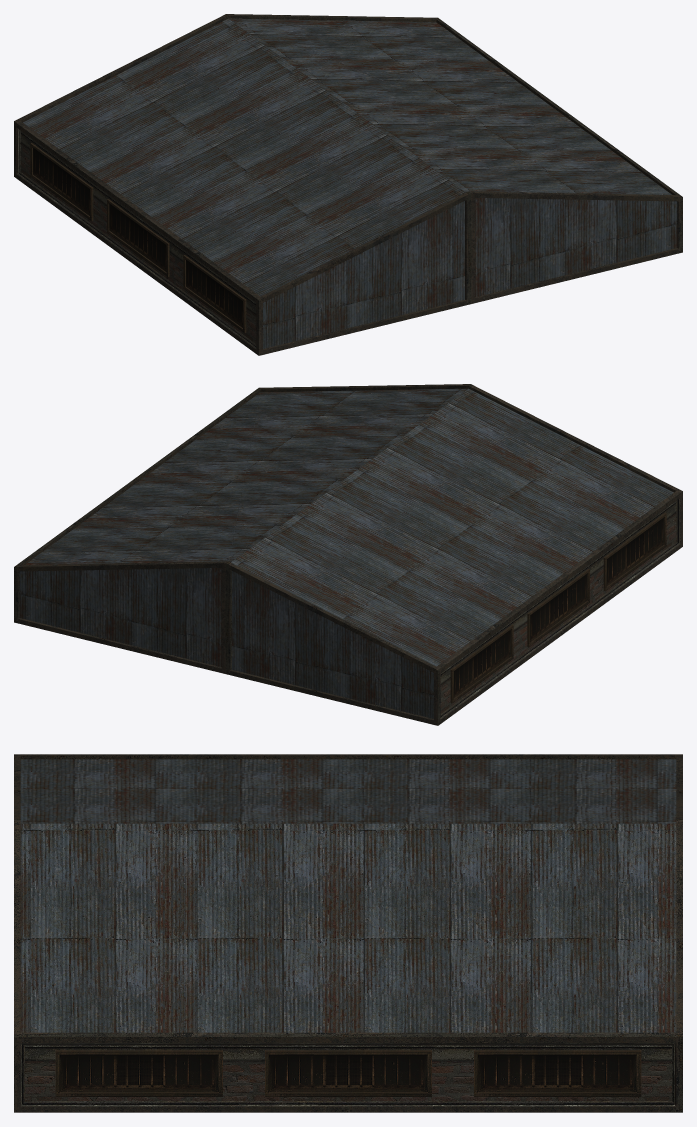
Rendered from roof_mh_4_a_2.glb.
3 renders of one model, top to bottom at view 1: azimuth 30°, elevation 25°; view 2: azimuth 150°, elevation 25°; view 3: azimuth 270°, elevation 25°, orthographic. The views are drawn at different scales.
Visible parts, largest first — view 1: roof_mh_4_a_2; view 2: roof_mh_4_a_2; view 3: roof_mh_4_a_2.
Boxes of the visible parts, bbox=[...] form: roof_mh_4_a_2: bbox=[14, 14, 682, 355]; roof_mh_4_a_2: bbox=[14, 384, 682, 725]; roof_mh_4_a_2: bbox=[14, 754, 682, 1112].
Size of the model in its own units: 8 by 2 by 8.
Materials: 6 (6 with a texture image).
